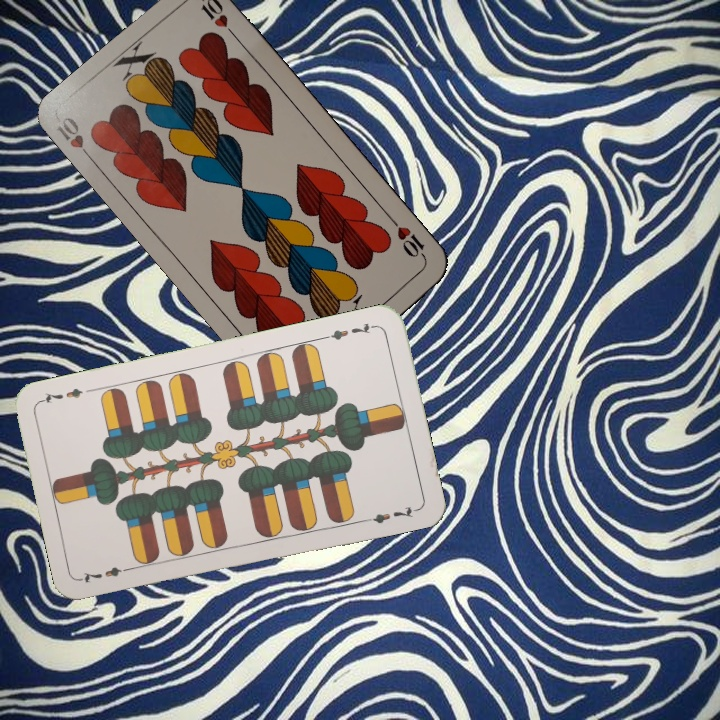E7: (321, 318, 380, 343), (78, 562, 136, 585)
H10: (52, 113, 97, 165), (386, 215, 430, 264)
